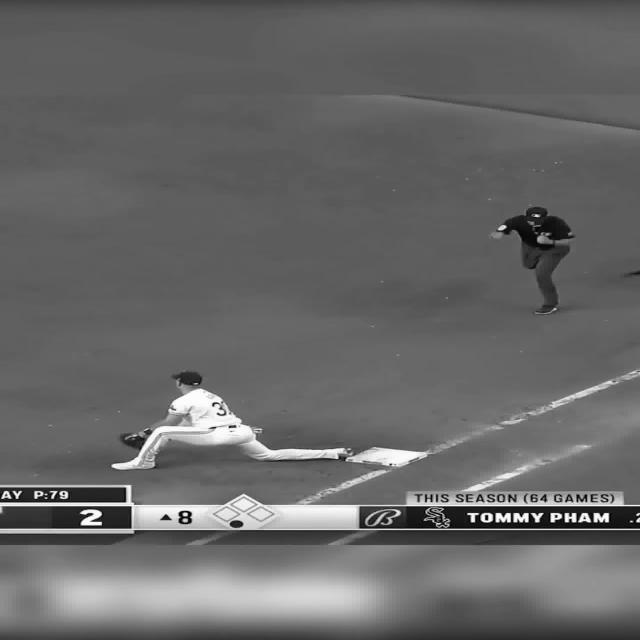base: (353, 447, 440, 468)
baseball_glove: (121, 427, 152, 445)
shoe: (110, 459, 156, 470), (337, 447, 355, 460), (533, 306, 557, 314)
